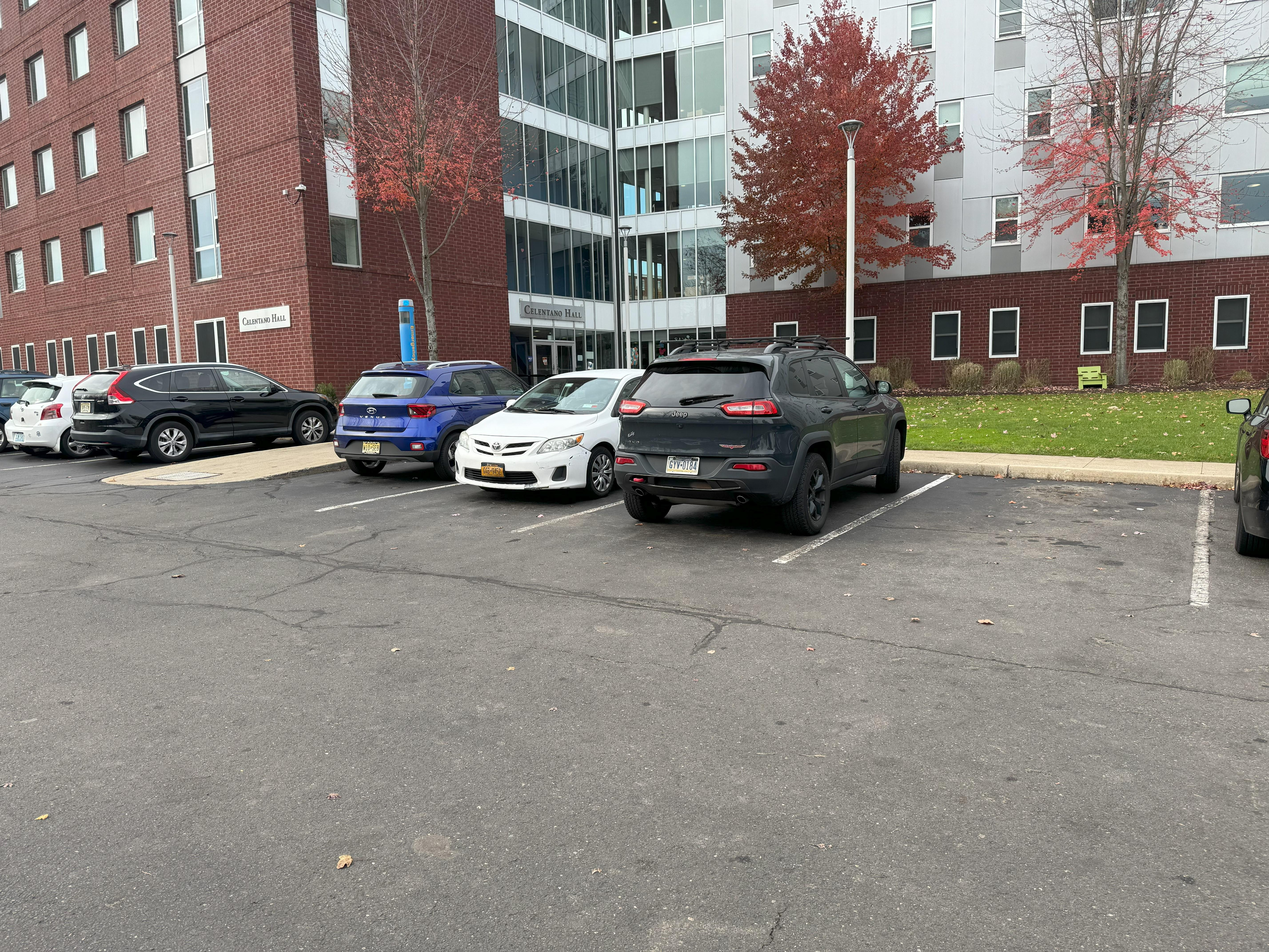empty: (918, 478, 1196, 616)
occupied: (623, 340, 905, 552), (72, 338, 318, 472), (456, 363, 610, 524), (331, 343, 441, 494), (16, 367, 64, 462)
